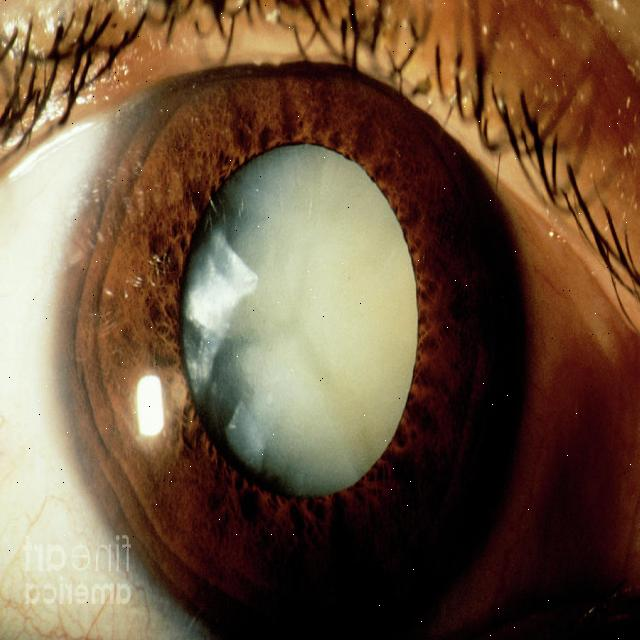Cataract: (58, 23, 529, 640)
